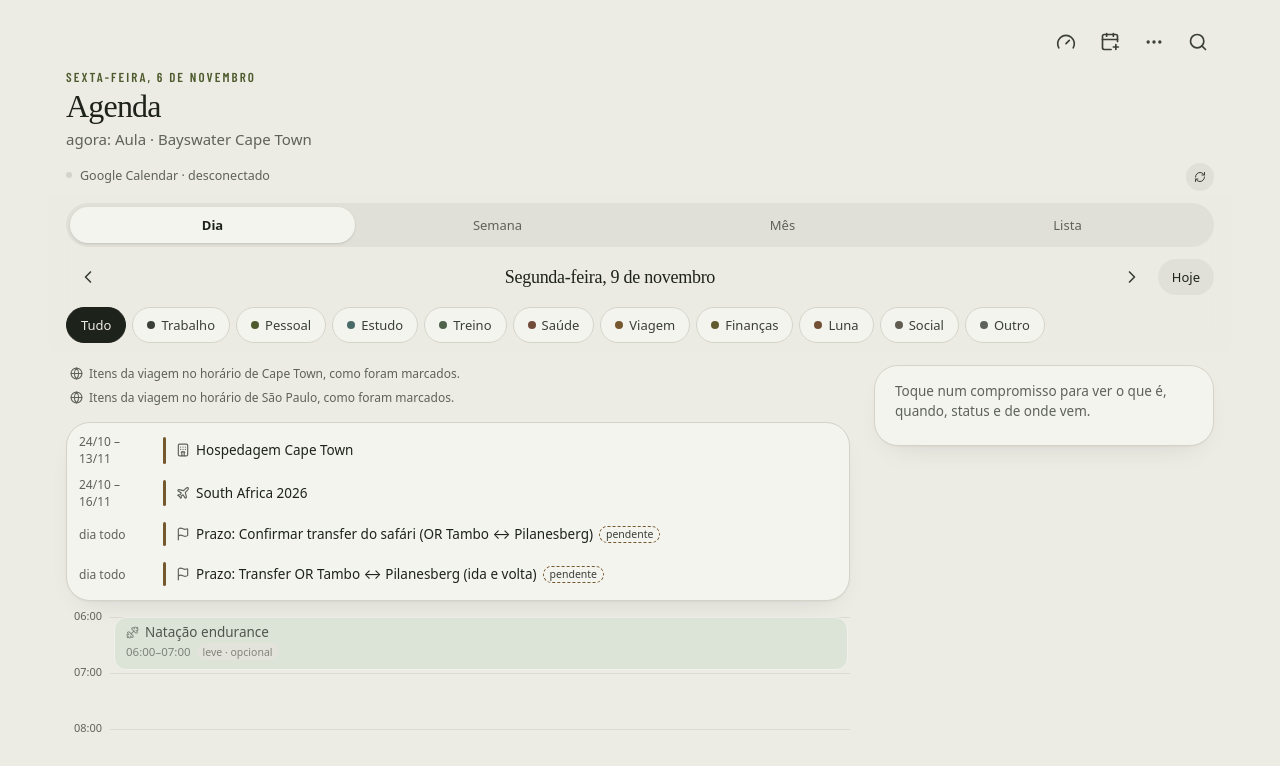
Scenario: Agenda · calendário universal › filtro Viagem esconde a aula (estudo) e Tudo volta à visão consolidada; a escolha fica no aparelho
Step 1. Click the button "Viagem" → click(645, 325), box left=600, top=307, right=690, bottom=343
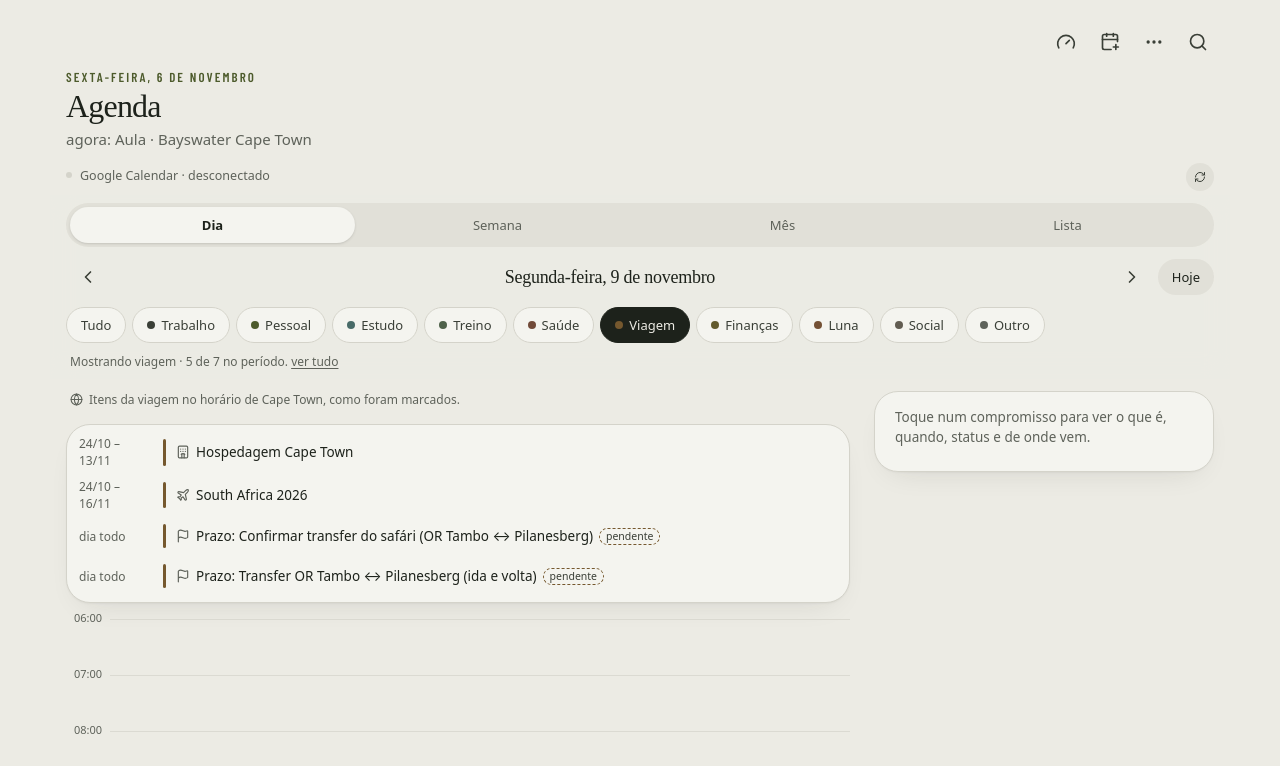
Expected: the field labelled "Dia 2026-11-09" does not show "Aula · Bayswater"
Step 2. Click the button "Tudo" → click(96, 325), box left=66, top=307, right=126, bottom=343
(page scrolled)
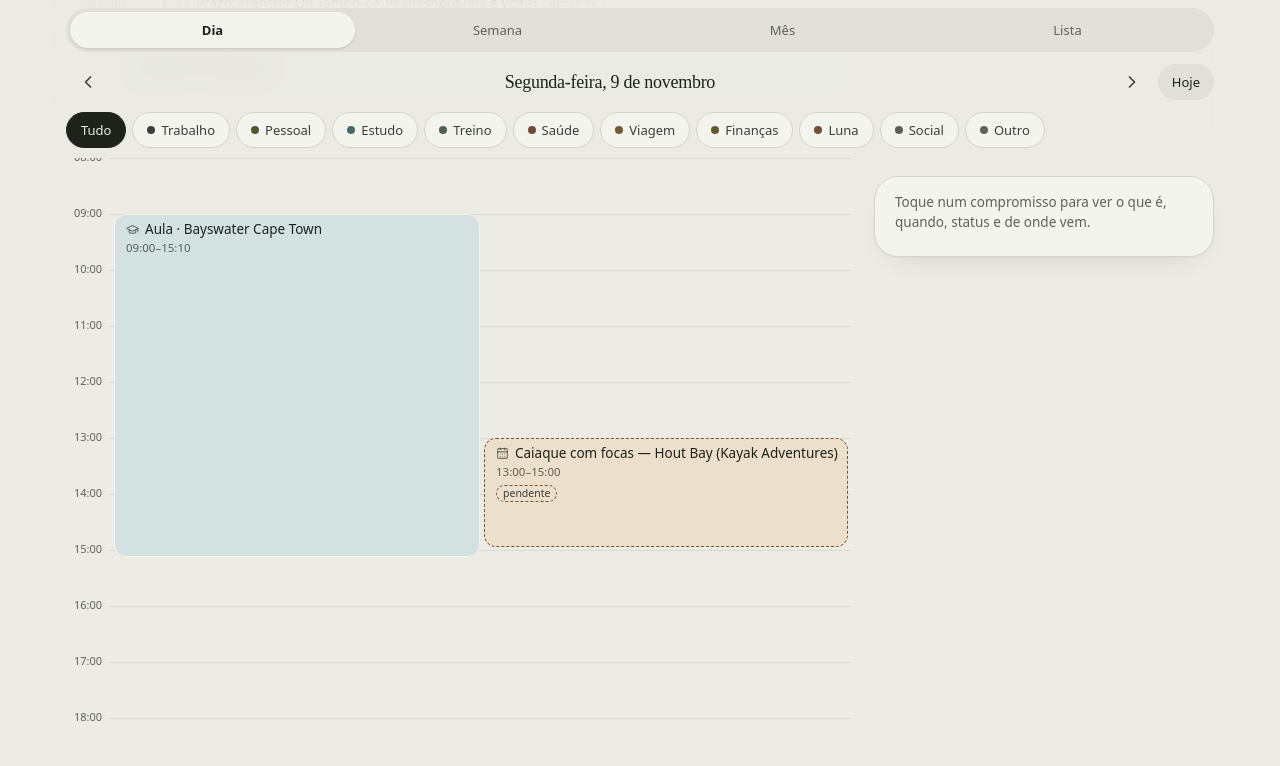
Result: the element named "Dia 2026-11-09" shows "Aula · Bayswater" at left=114, top=214, right=480, bottom=557
